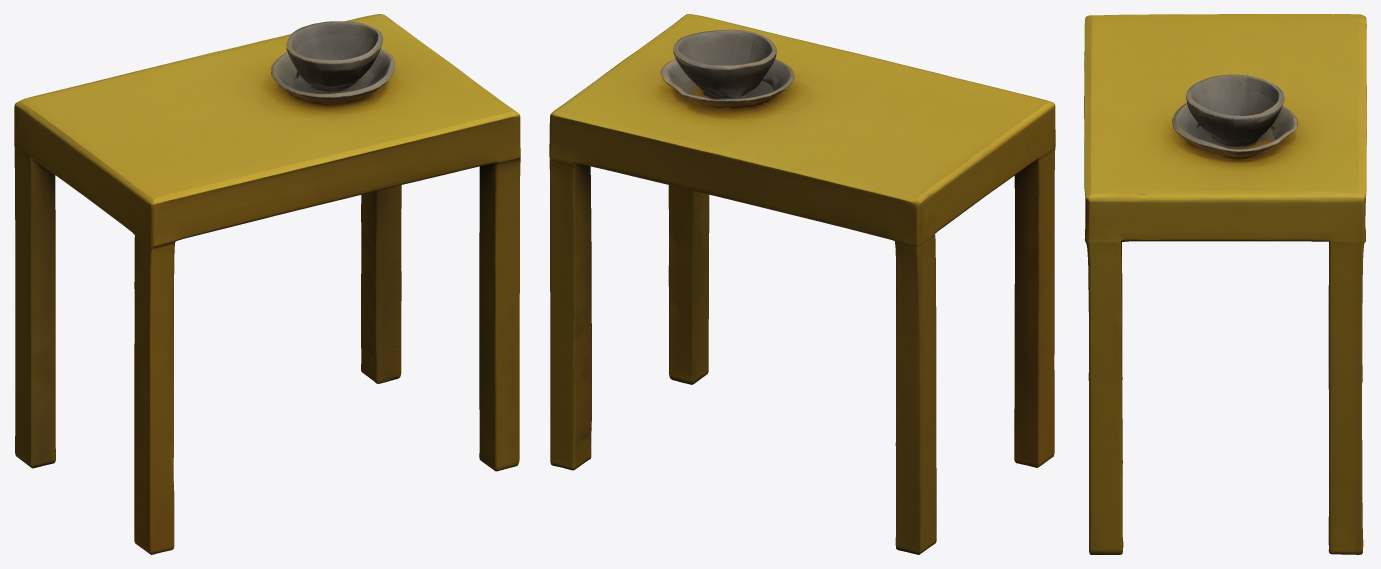
File: spoon.glb
The picture shows the model from 3 angles, left to right: view 1: azimuth 30°, elevation 25°; view 2: azimuth 150°, elevation 25°; view 3: azimuth 270°, elevation 25°; orthographic projection.
Visible parts, largest first — view 1: world; view 2: world; view 3: world.
Boxes of the visible parts, x1=… form: world: x1=14, y1=14, x2=520, y2=554; world: x1=549, y1=14, x2=1055, y2=554; world: x1=1084, y1=14, x2=1366, y2=554.
Bounding box in the file's own units: 0.9645 × 0.9933 × 0.6275.
1 material, 1 textured.
